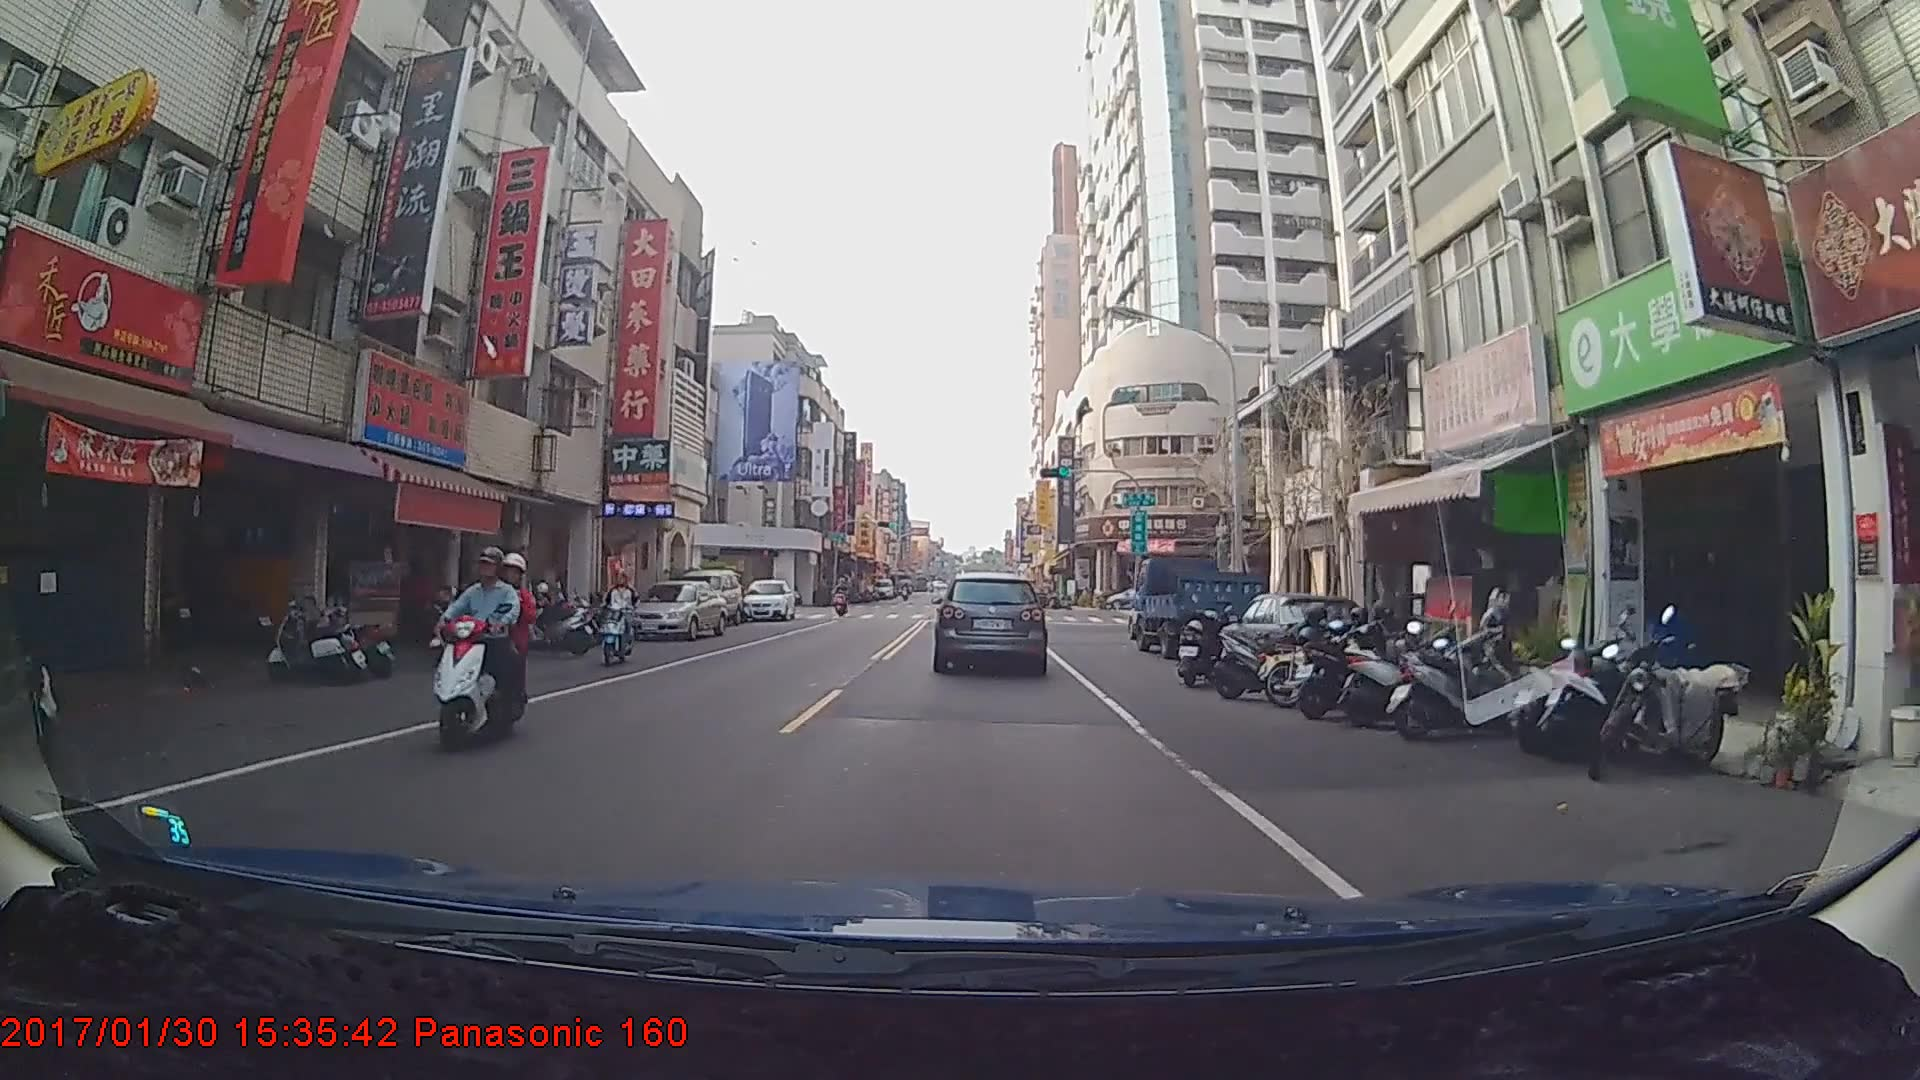rider: (424, 550, 531, 750), (603, 573, 642, 671), (832, 579, 852, 621)
vehicle: (1131, 551, 1267, 660), (933, 571, 1047, 674), (621, 578, 728, 641), (673, 565, 745, 627), (740, 577, 794, 623)
